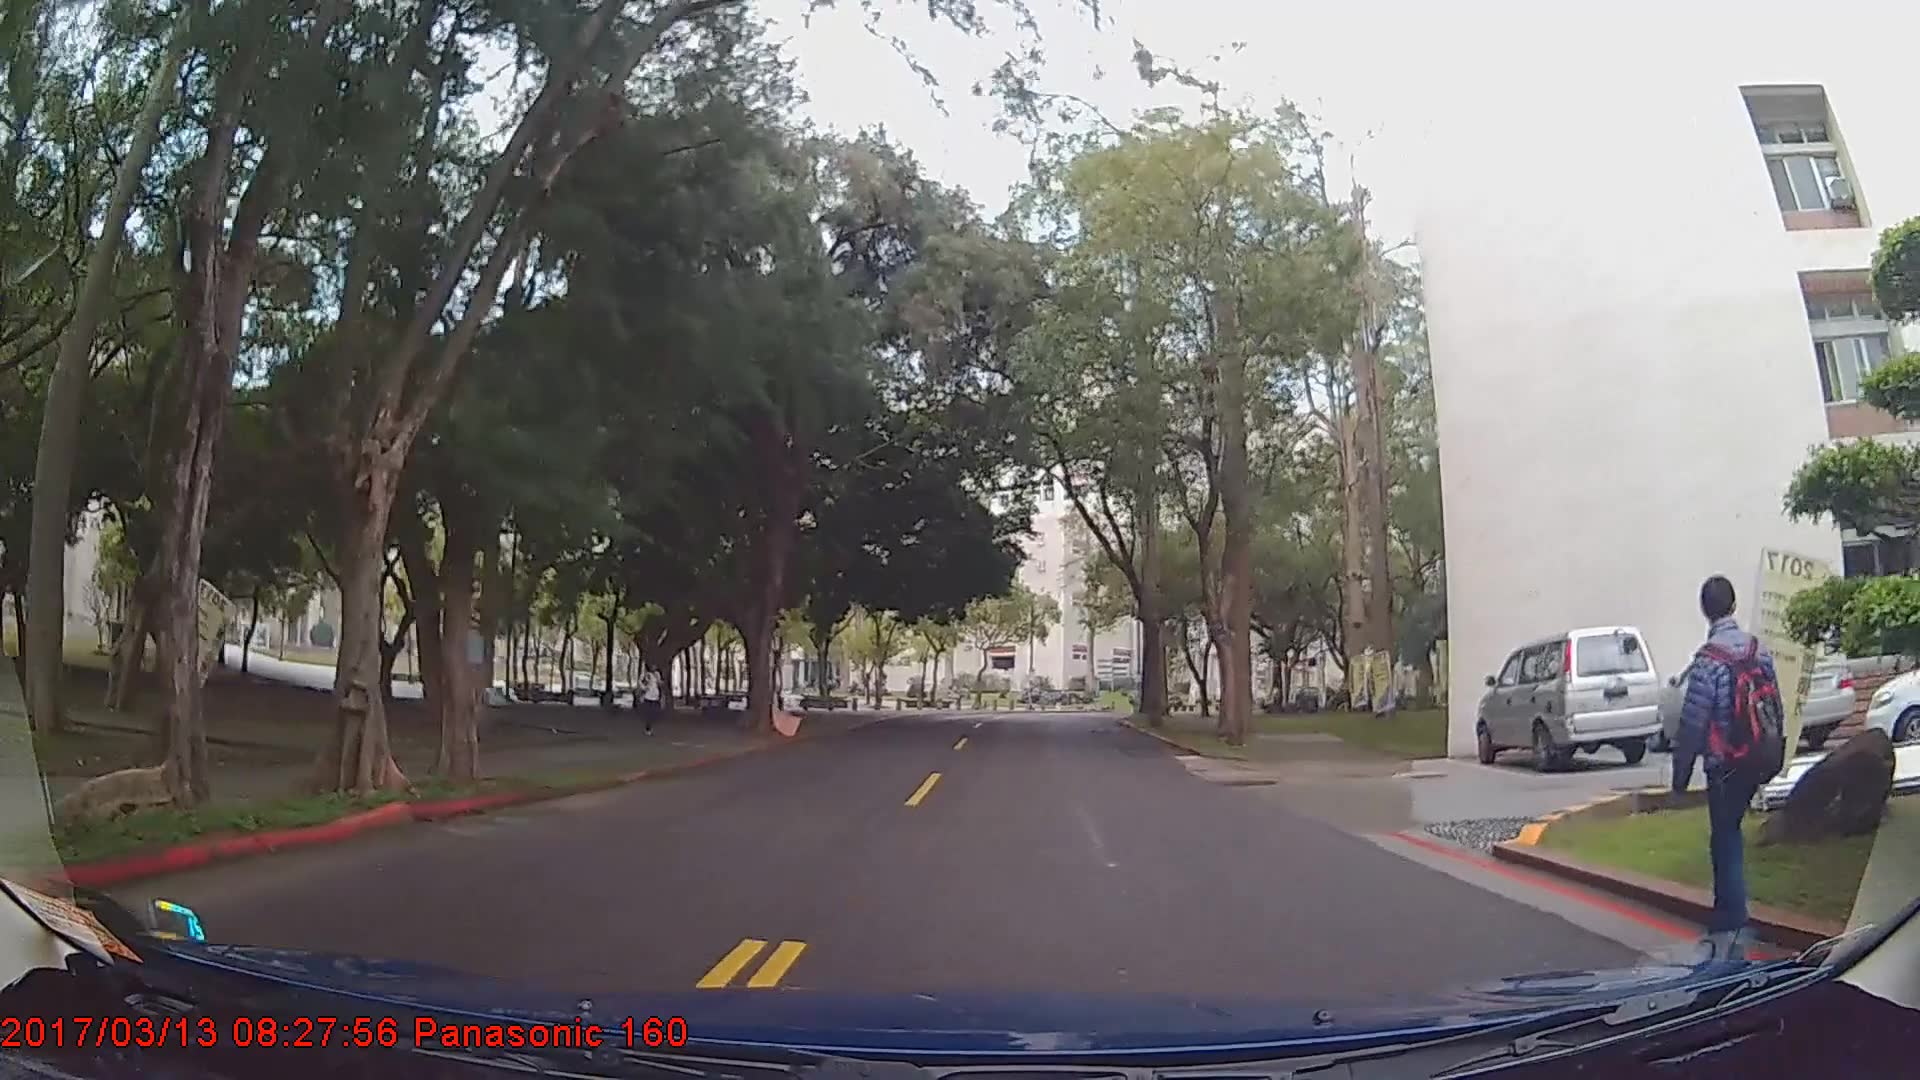pedestrian: (1668, 579, 1790, 957), (637, 659, 667, 737)
vehicle: (1476, 623, 1662, 771)
